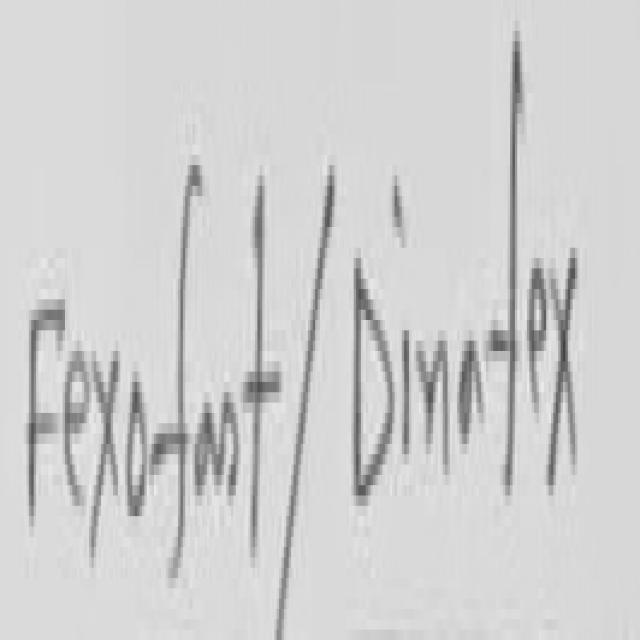D: (356, 258, 395, 490)
F: (31, 299, 61, 521)
a: (193, 406, 227, 517), (459, 341, 484, 453)
e: (61, 351, 93, 512), (528, 268, 549, 443)
f: (156, 155, 206, 573), (491, 31, 530, 490)
i: (404, 330, 411, 449), (395, 175, 407, 243)
n: (419, 335, 450, 470)
o: (125, 382, 148, 511)
s: (210, 401, 241, 495)
t: (241, 182, 282, 552)
x: (547, 241, 581, 480), (91, 340, 124, 552)
